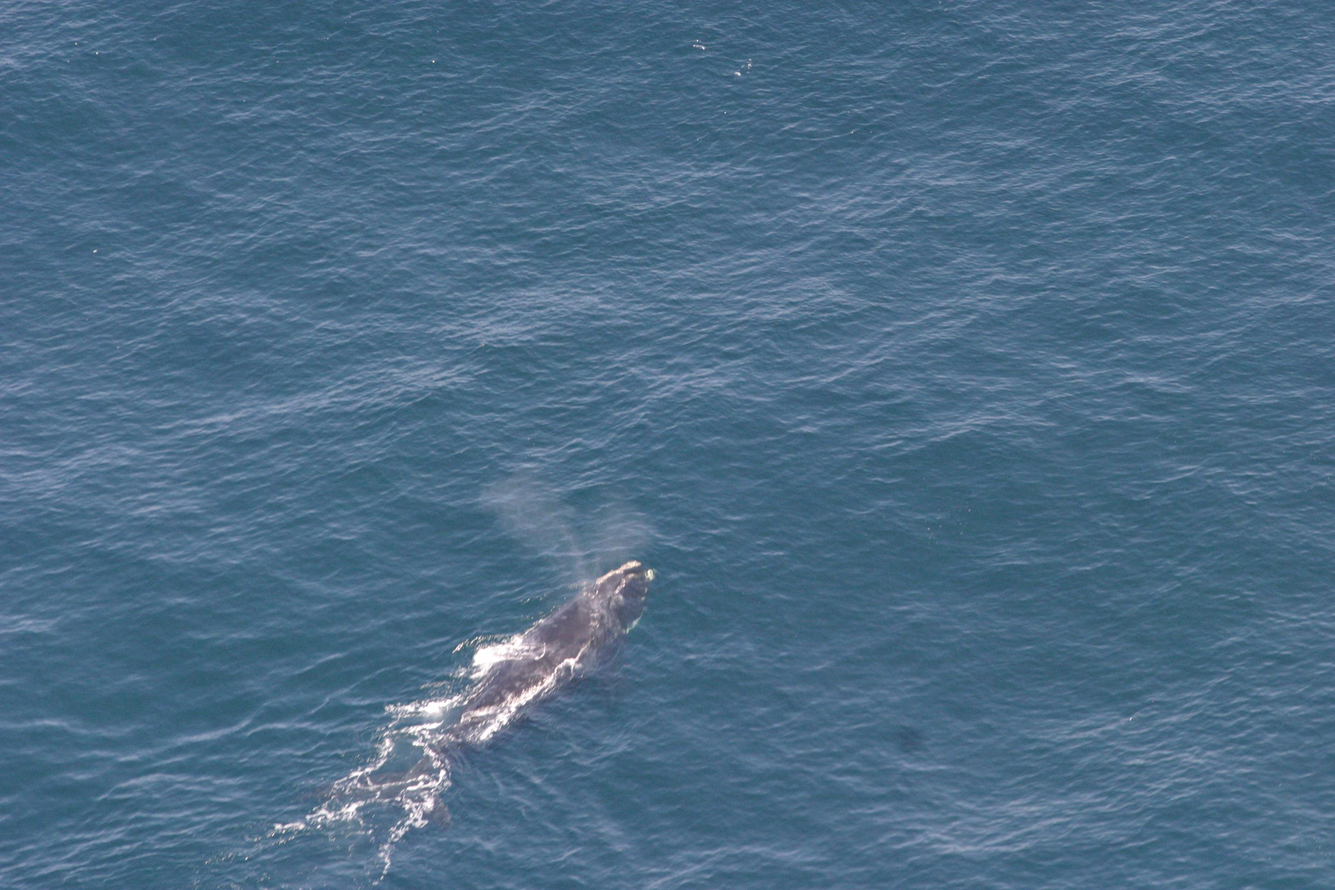whale: (301, 551, 662, 845)
